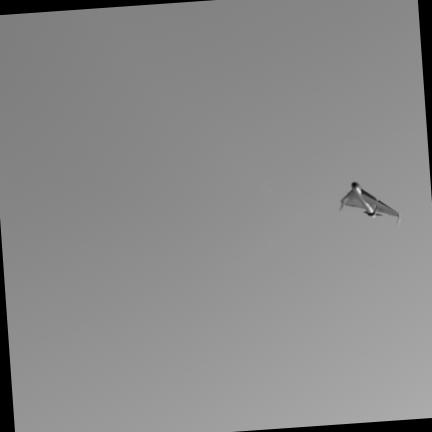Shahed: (341, 183, 399, 222)
